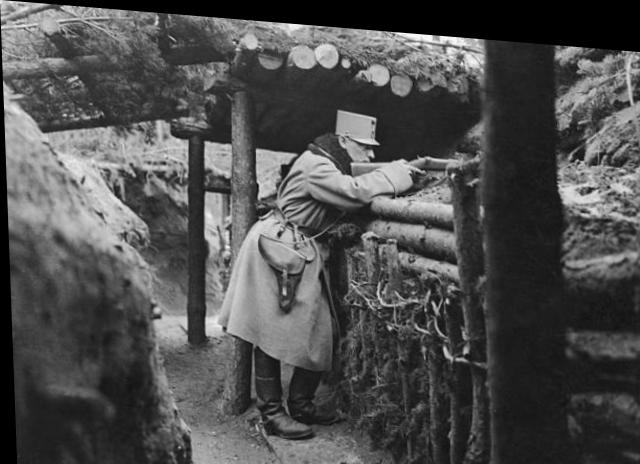other: (232, 95, 392, 432)
